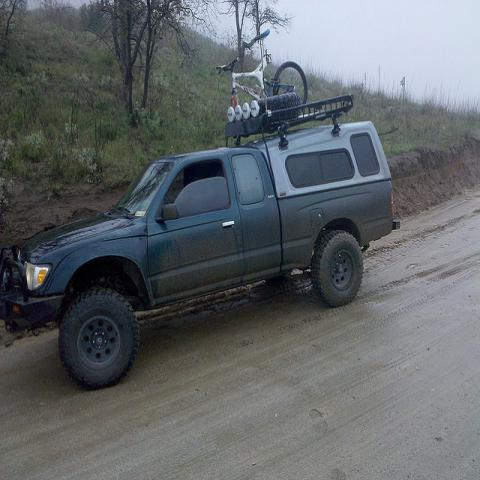truck: (0, 121, 401, 389)
